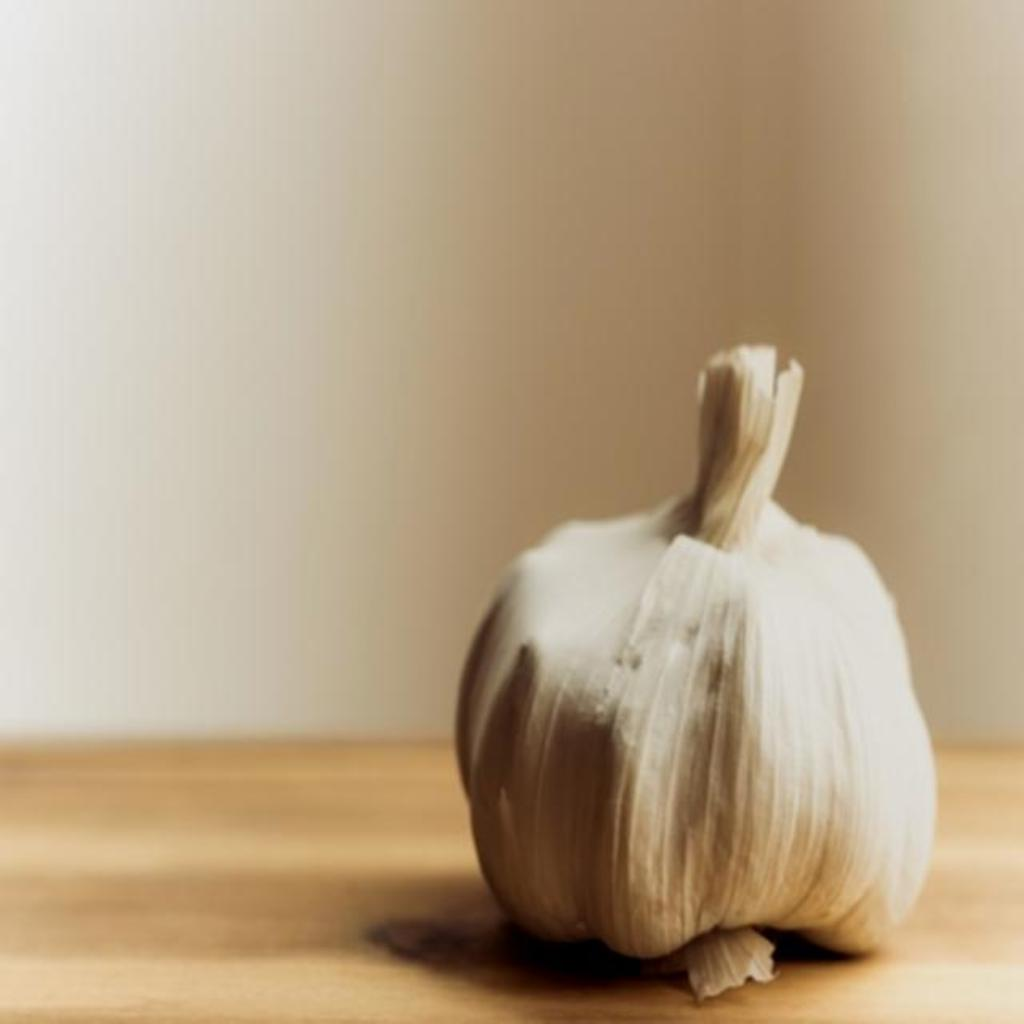garlic: (456, 346, 934, 997)
